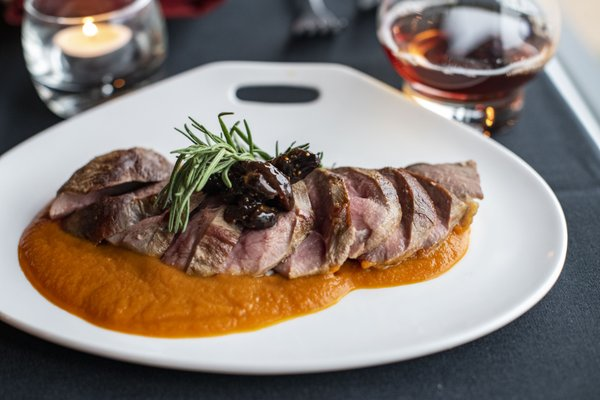pizza: (20, 0, 168, 115)
